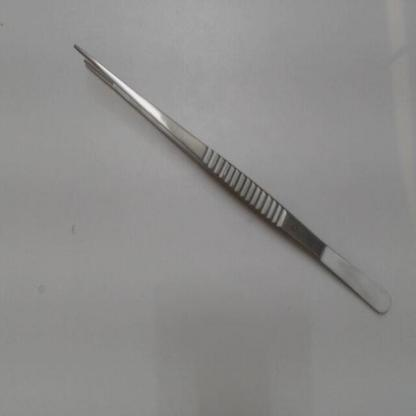DeBakey Dissector: (47, 22, 413, 349)
